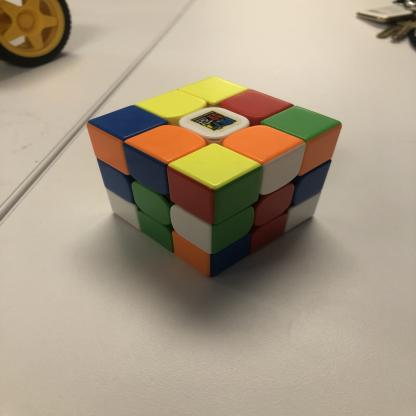UnsolvedCube: (75, 74, 356, 286)
